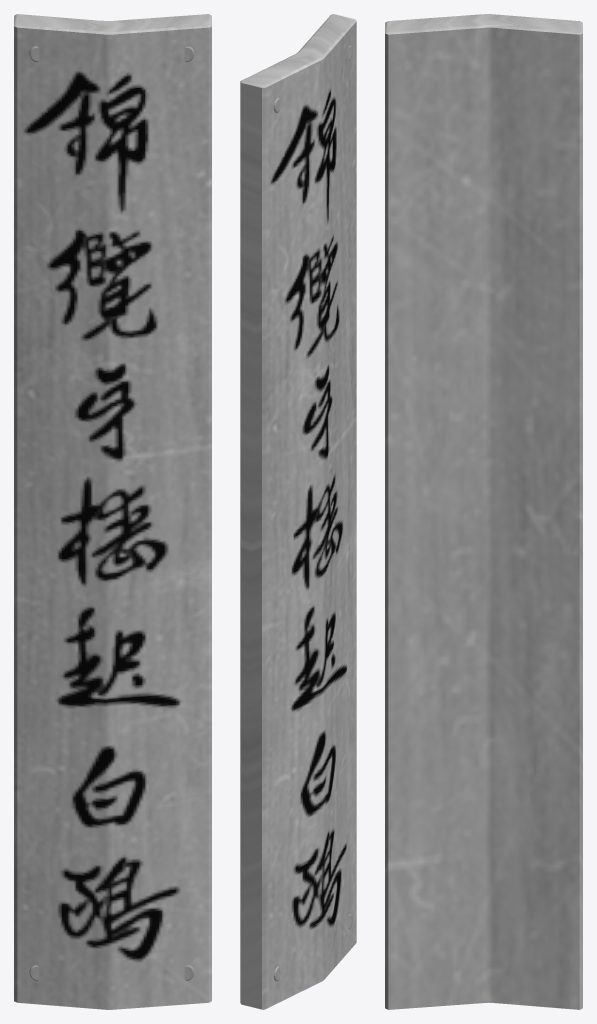
Rendered from SM_Stela10F.fbx.
3 renders of one model, left to right at view 1: azimuth 90°, elevation 25°; view 2: azimuth 150°, elevation 25°; view 3: azimuth 270°, elevation 25°, orthographic. The views are drawn at different scales.
Parts seen in each view (by area): view 1: SM_Stela10F; view 2: SM_Stela10F; view 3: SM_Stela10F.
Boxes of the visible parts, x1,y1,x2,y2 form: SM_Stela10F: [14, 14, 211, 1009]; SM_Stela10F: [240, 14, 356, 1009]; SM_Stela10F: [385, 14, 582, 1009].
Size of the model in its own units: 3.3 by 13.51 by 73.67.
1 material, 1 textured.
